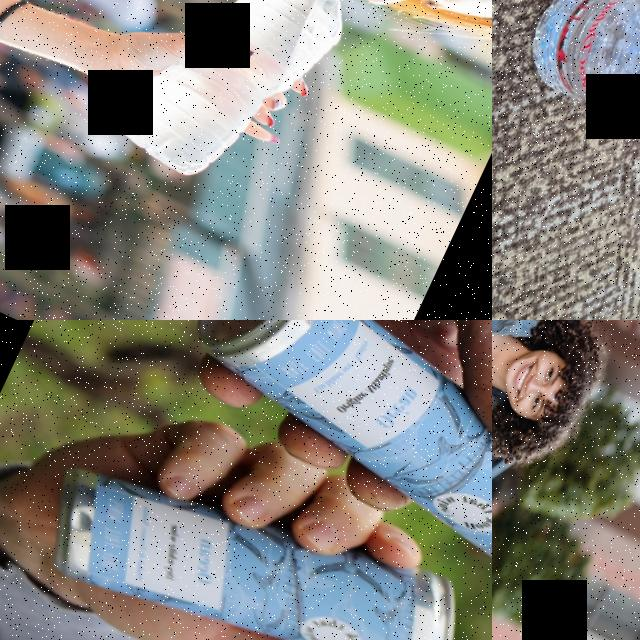bottle: (99, 0, 368, 211), (501, 0, 640, 185)
can: (25, 416, 481, 640), (158, 320, 492, 605)
